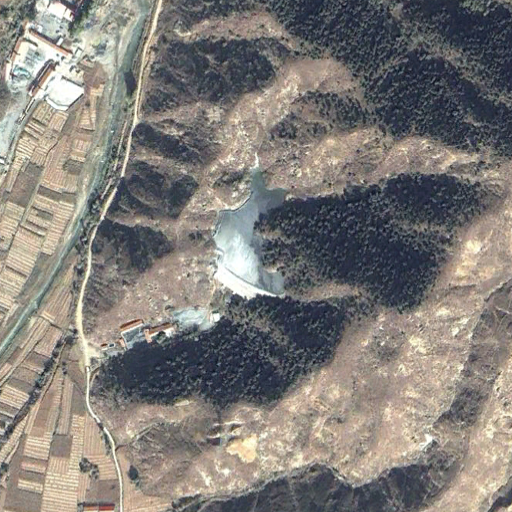tp: (207, 169, 295, 302)
